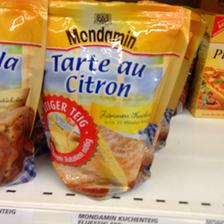Kuchen: (32, 0, 188, 198), (0, 1, 52, 185)
